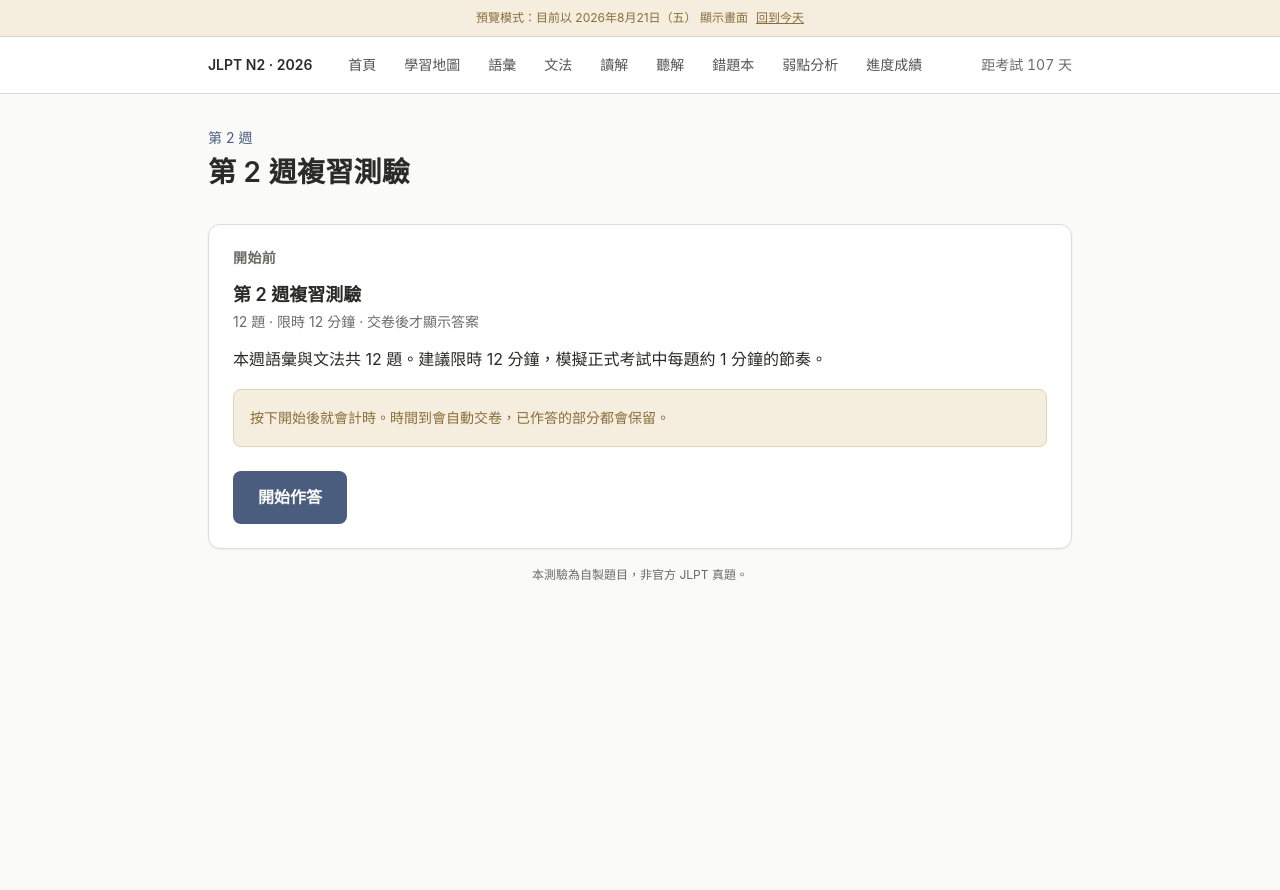
Test: 測驗作答流程 › 可以用題號直接跳題
Step 1. Click the button "開始作答" → (290, 498), box [233,471,347,524]
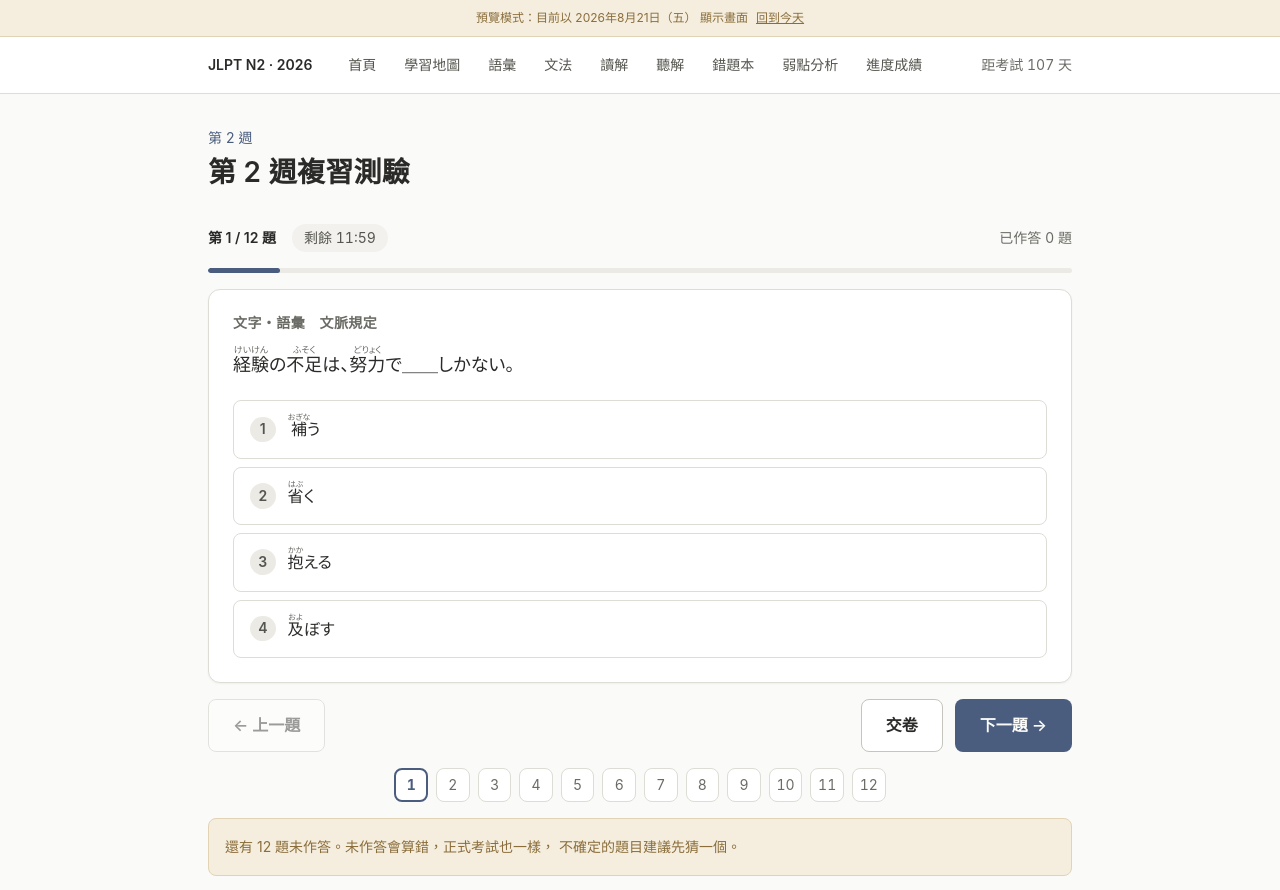
Step 2. Click the button named "第 5 題（未作答）" → (578, 785), box [561,768,594,802]
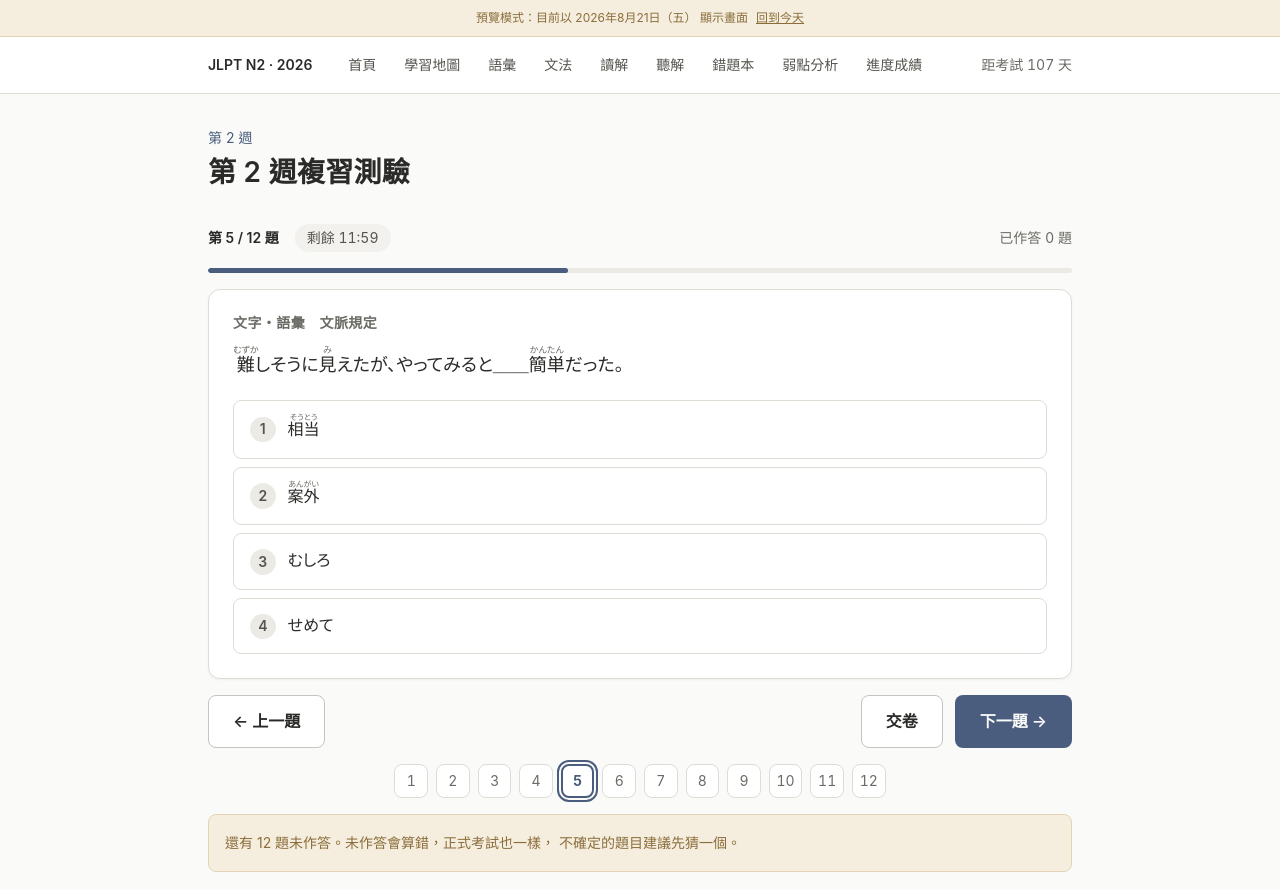
Check: the text "第 5 / 12 題" is shown, box [208,226,279,250]
